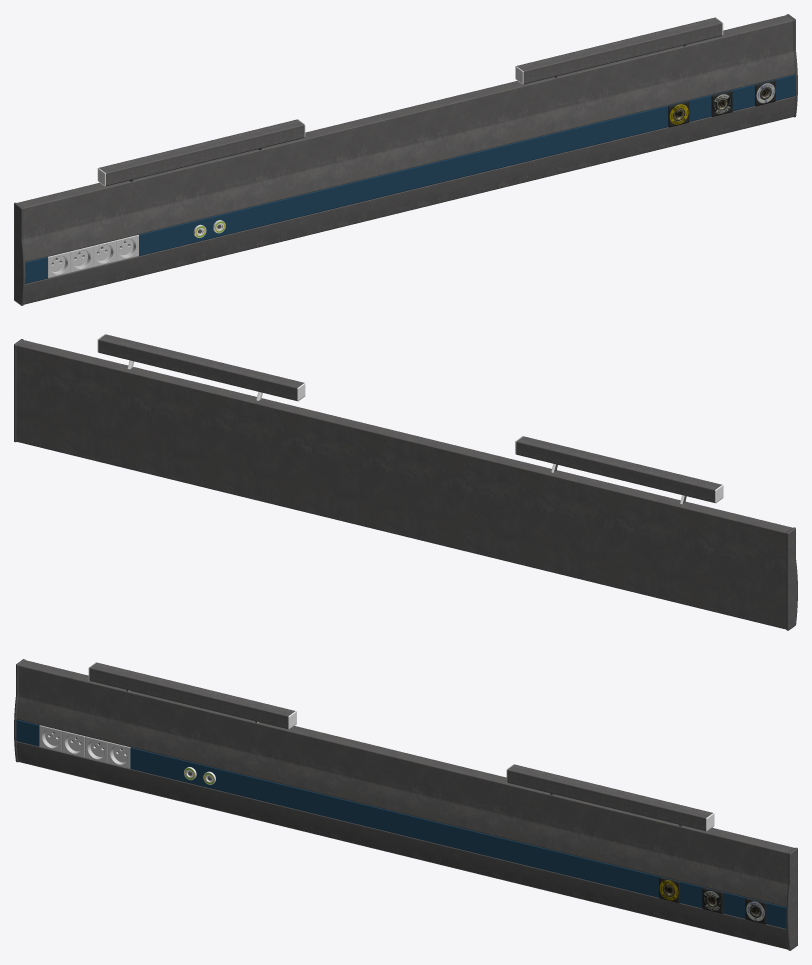
Rendered from hospital-wall-panel.glb.
3 renders of one model, top to bottom at view 1: azimuth 30°, elevation 25°; view 2: azimuth 150°, elevation 25°; view 3: azimuth 330°, elevation 25°, orthographic.
Visible parts, largest first — view 1: RN07-DN3_Panel; view 2: RN07-DN3_Panel; view 3: RN07-DN3_Panel.
Boxes of the visible parts, x1,y1,x2,y2 form: RN07-DN3_Panel: (14,14,797,305); RN07-DN3_Panel: (14,334,797,630); RN07-DN3_Panel: (14,659,797,950).
Bounding box in the file's own units: 2.41 × 0.349 × 0.0693.
7 materials, 6 textured.
